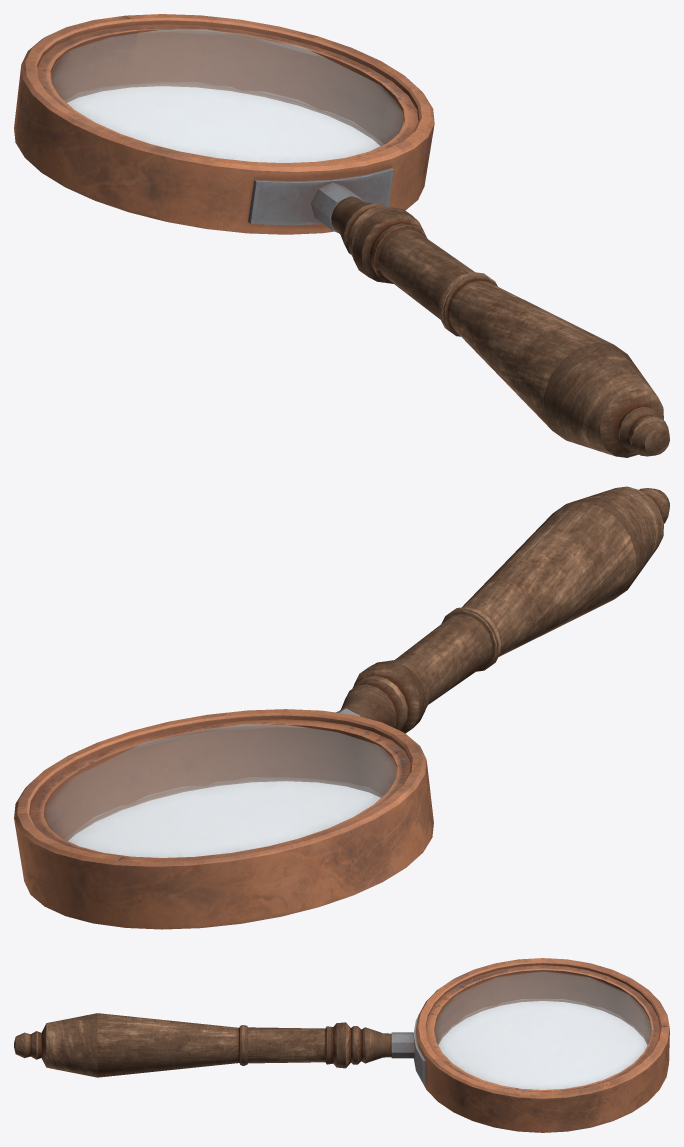
Rendered from magnifying_glass_victorian_wooden_handle.glb.
The picture shows the model from 3 angles, top to bottom: view 1: azimuth 30°, elevation 25°; view 2: azimuth 150°, elevation 25°; view 3: azimuth 270°, elevation 25°; orthographic projection. The views are drawn at different scales.
Visible parts, largest first — view 1: sm_Magnifying, sm_MagnifyingGlass; view 2: sm_Magnifying, sm_MagnifyingGlass; view 3: sm_Magnifying, sm_MagnifyingGlass.
Part boxes in pixels (left/top/right/bottom): sm_Magnifying: left=14, top=14, right=669, bottom=457; sm_MagnifyingGlass: left=51, top=29, right=403, bottom=162; sm_Magnifying: left=14, top=486, right=669, bottom=929; sm_MagnifyingGlass: left=45, top=724, right=396, bottom=857; sm_Magnifying: left=14, top=958, right=669, bottom=1132; sm_MagnifyingGlass: left=434, top=971, right=651, bottom=1089.
Size of the model in its own units: 0.136 by 0.0452 by 0.348.
Materials: 2 (2 with a texture image).
